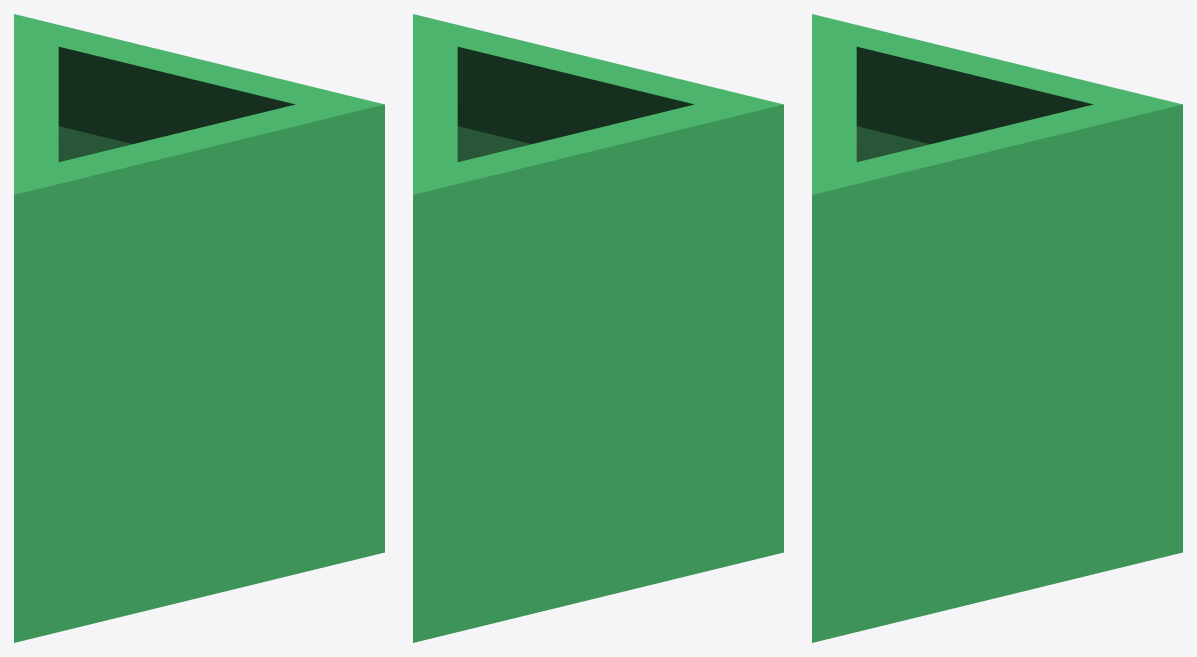
The model's file is food_2_2.fbx.
The picture shows the model from 3 angles, left to right: view 1: azimuth 30°, elevation 25°; view 2: azimuth 150°, elevation 25°; view 3: azimuth 270°, elevation 25°; orthographic projection.
Parts seen in each view (by area): view 1: Food_2_2; view 2: Food_2_2; view 3: Food_2_2.
Boxes of the visible parts, box(x1,y1,x2,y2) form: Food_2_2: box(14, 14, 384, 642); Food_2_2: box(413, 14, 783, 642); Food_2_2: box(812, 14, 1182, 642).
Size of the model in its own units: 173 by 200 by 150.
